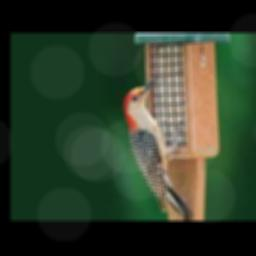Woodpecker: (124, 76, 193, 219)
